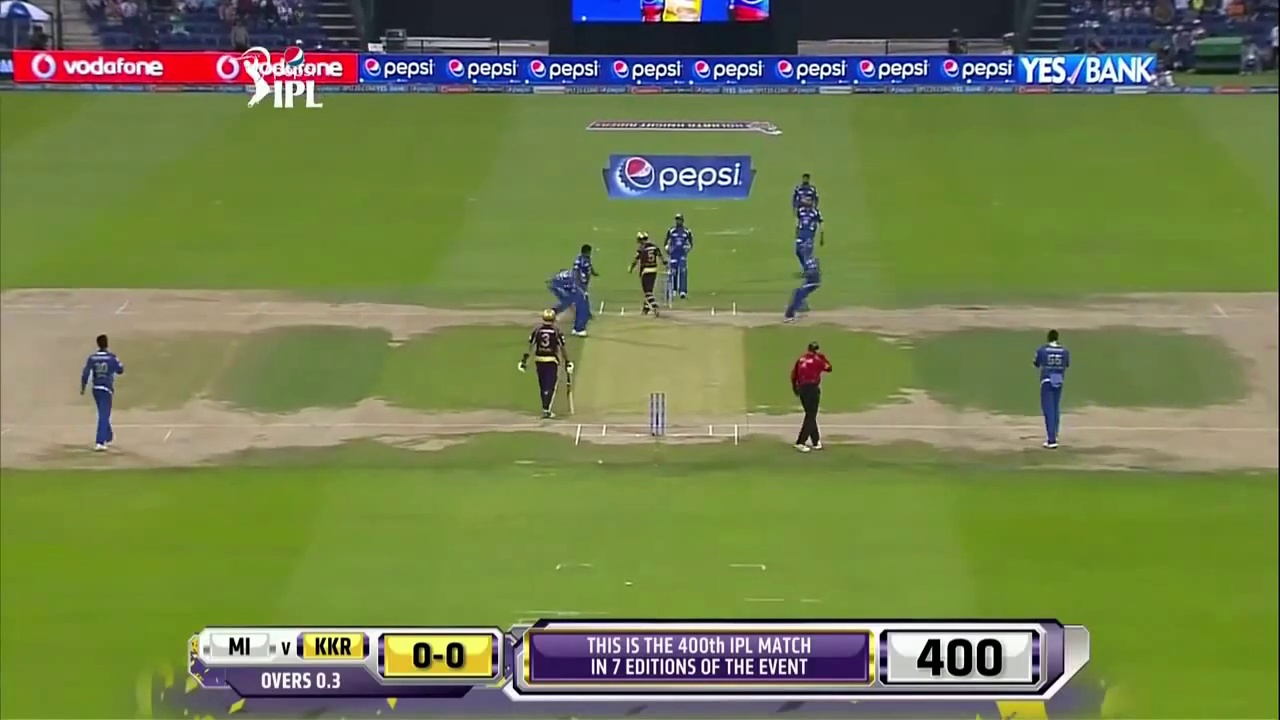bat: (565, 376, 576, 416)
stumps: (649, 390, 666, 436)
